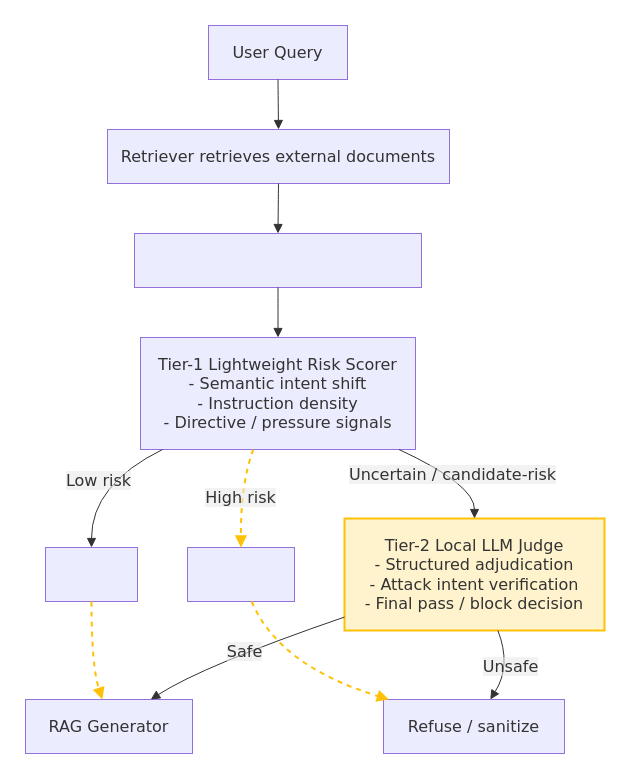
Image size: 622x771. Some labels were removed from this diagram. The shapes that lost their labels are listed below. From the top down, each one's box as (x1, y1, x2, y2) in pixels, then its label:
(134, 232, 422, 288): Retrieved Context + User Query
(44, 546, 138, 602): PASS
(186, 546, 294, 602): BLOCK
